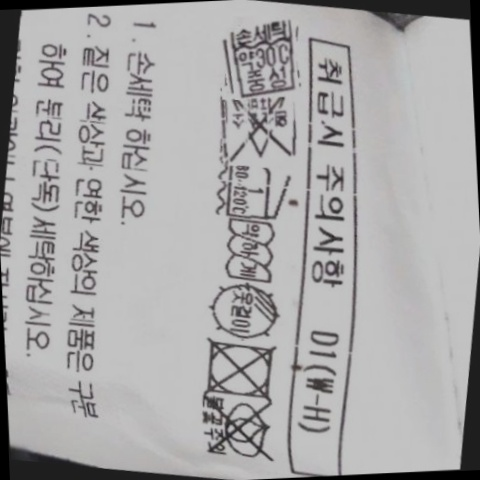DN_tumble_dry: (195, 334, 282, 402)
hand_wash: (221, 22, 303, 96)
iron_low: (219, 161, 289, 223)
line_dry_in_shade: (204, 281, 286, 341)
wring: (220, 217, 278, 286)
